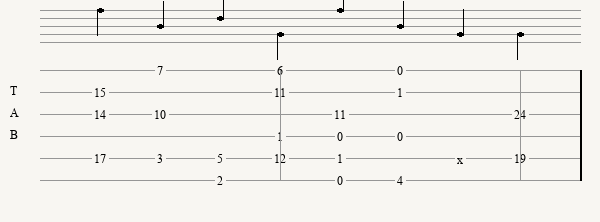0: (337, 174, 347, 187), (337, 130, 347, 143), (397, 64, 407, 77), (397, 130, 407, 143)
1: (277, 130, 287, 143), (337, 152, 347, 165), (397, 86, 407, 99)
10: (154, 108, 170, 121)
11: (274, 86, 290, 99), (334, 108, 350, 121)
12: (274, 152, 290, 165)
14: (94, 108, 110, 121)
15: (94, 86, 110, 99)
17: (94, 152, 110, 165)
19: (514, 152, 530, 165)
2: (217, 174, 227, 187)
24: (514, 108, 530, 121)
3: (157, 152, 167, 165)
4: (397, 174, 407, 187)
5: (217, 152, 227, 165)
6: (277, 64, 287, 77)
7: (157, 64, 167, 77)
x: (457, 153, 467, 163)
